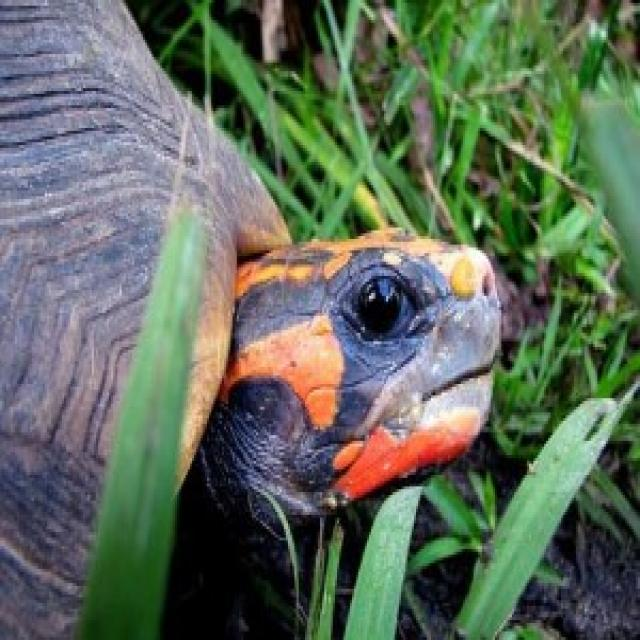Sea turtle: (0, 31, 545, 633)
